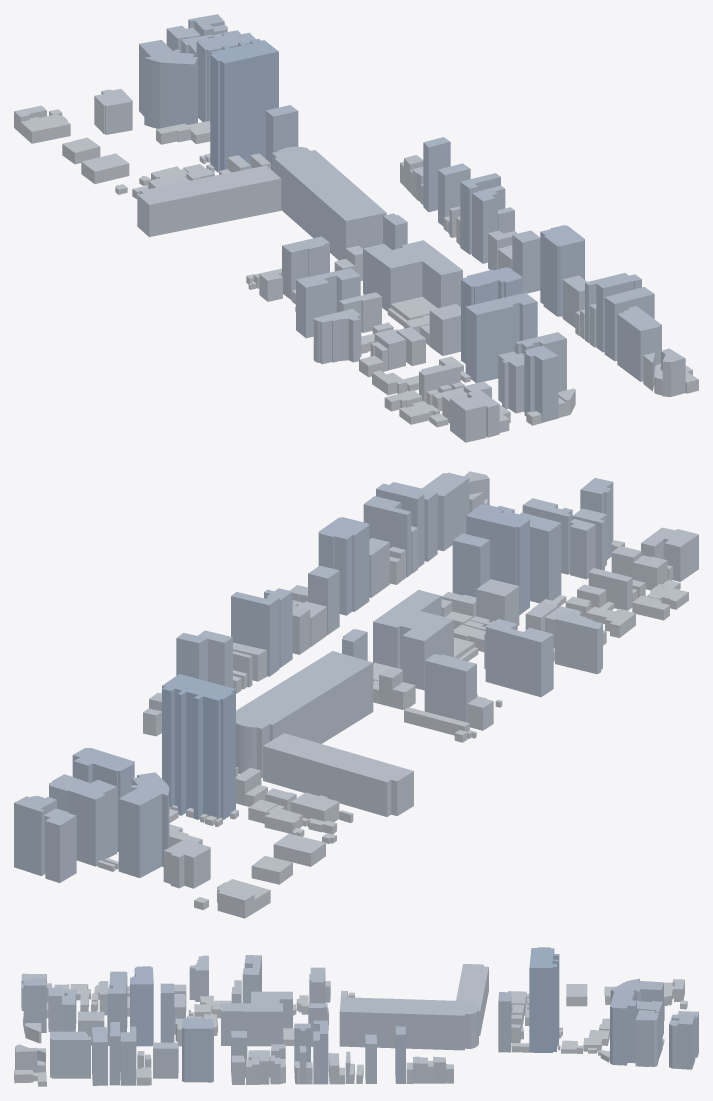
The picture shows the model from 3 angles, top to bottom: view 1: azimuth 30°, elevation 25°; view 2: azimuth 150°, elevation 25°; view 3: azimuth 270°, elevation 25°; orthographic projection. The views are drawn at different scales.
Bounding box in the file's own units: 169 × 67.21 × 491.
